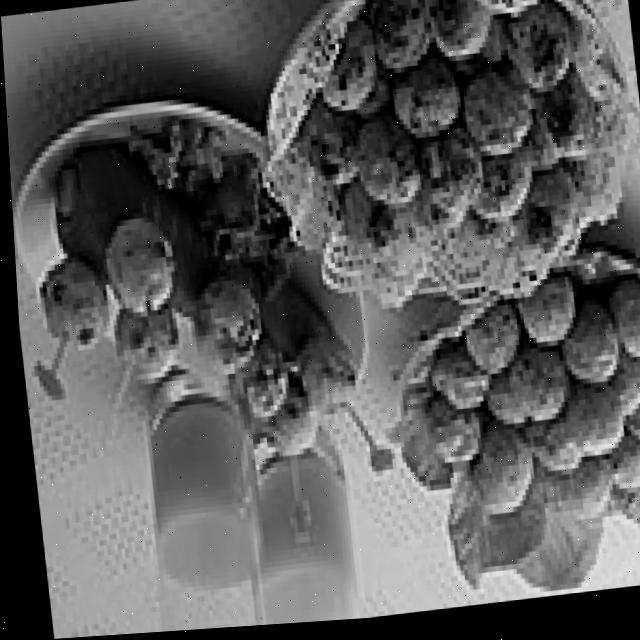炸货点心: (262, 0, 614, 318)
